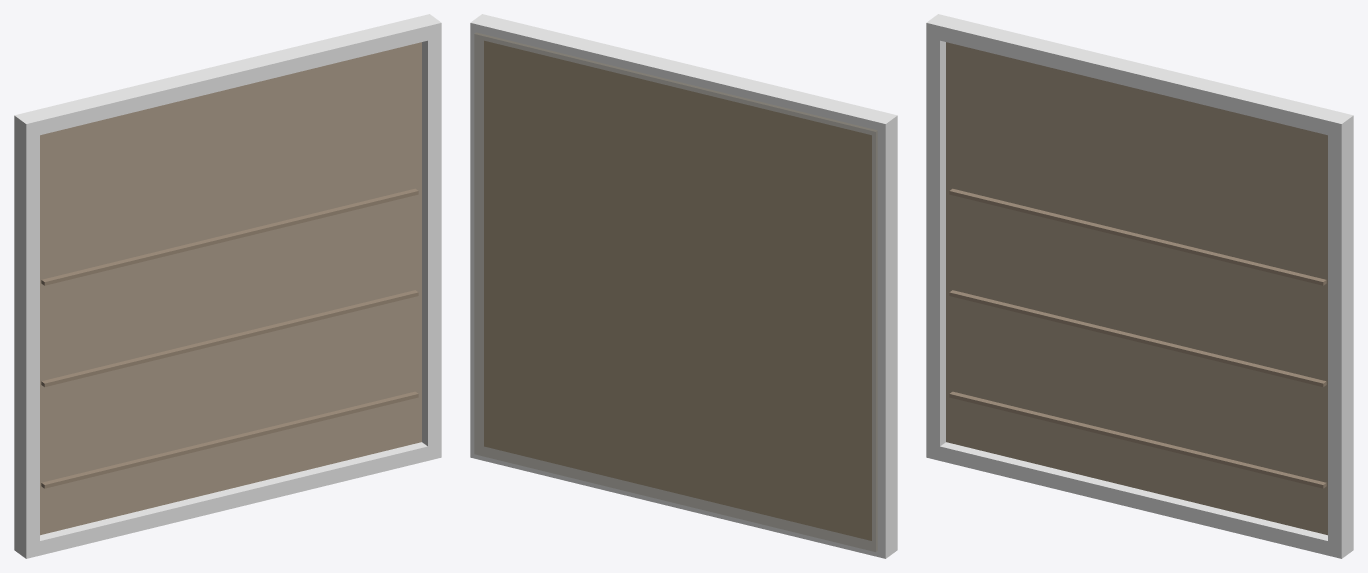
Rendered from 일본식커튼마소재리넨커텐로만셰이드_558b5988.glb.
3 views of the same model, side by side, from view 1: azimuth 30°, elevation 25°; view 2: azimuth 150°, elevation 25°; view 3: azimuth 330°, elevation 25° (orthographic).
Size of the model in its own units: 6 by 6 by 0.375.
